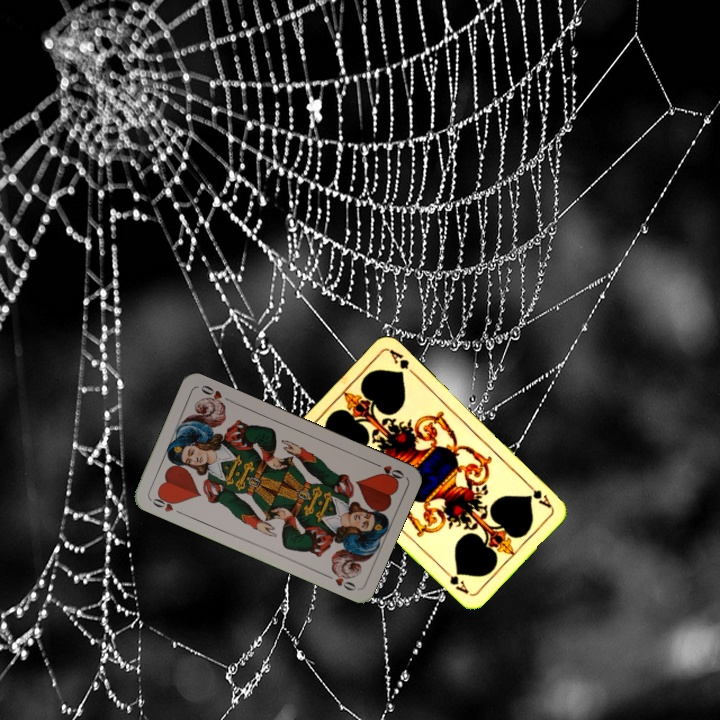GA: (521, 478, 554, 511)
HO: (368, 458, 407, 484), (147, 491, 185, 517)
